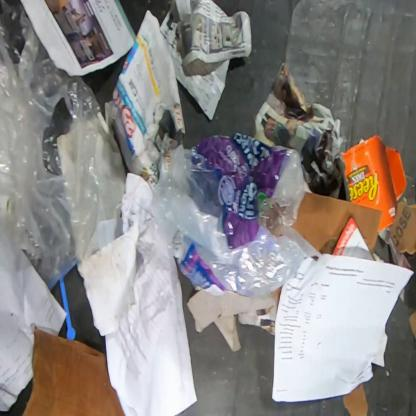cardboard: (21, 326, 126, 416), (340, 133, 407, 234), (292, 192, 382, 254), (342, 382, 369, 415), (408, 310, 415, 344)
soft_plastic: (0, 0, 127, 290), (151, 132, 314, 296)
